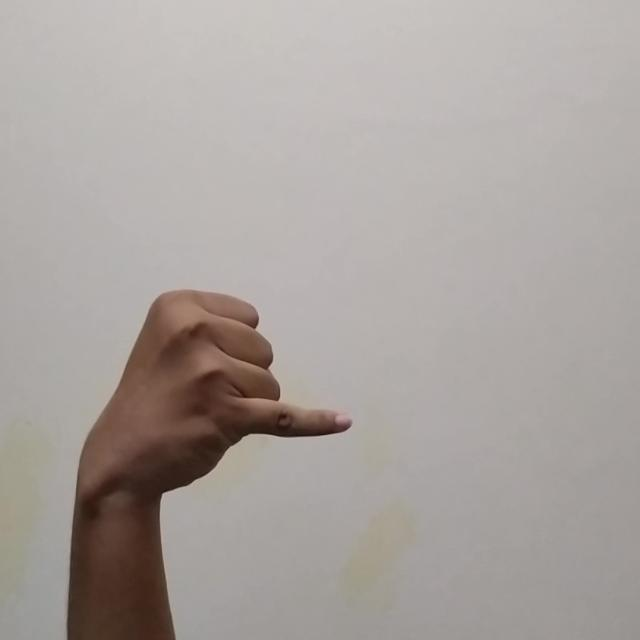J: (70, 282, 362, 519)
